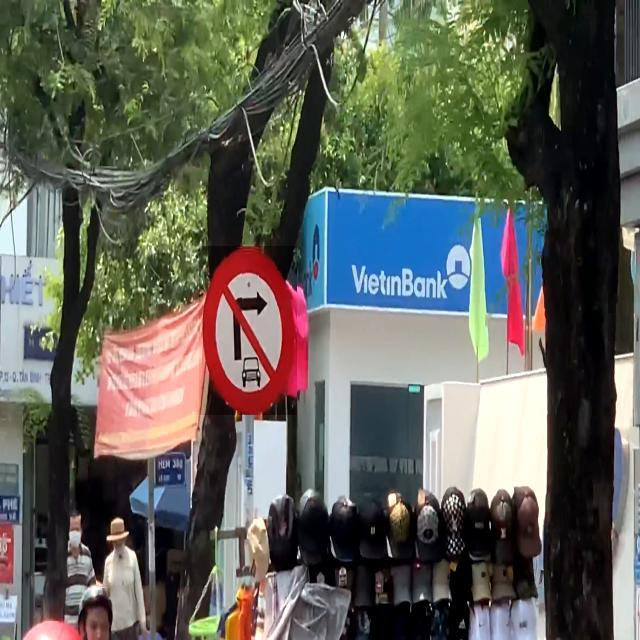P-103b: (199, 246, 297, 415)
